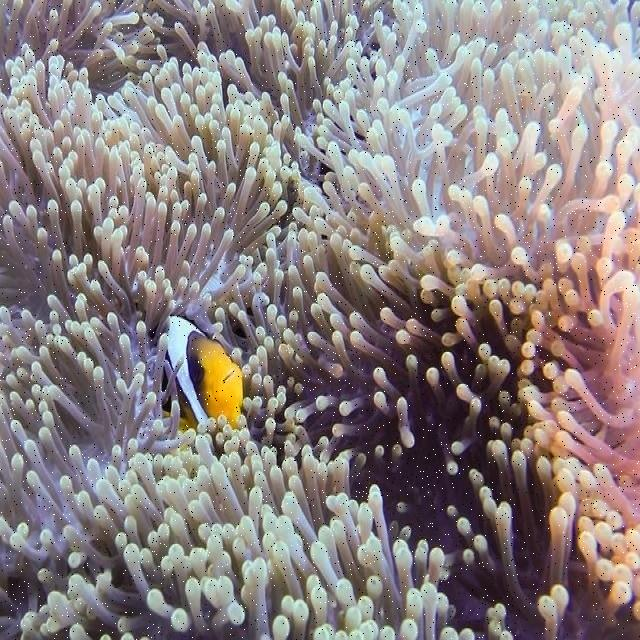fish: (166, 313, 244, 430)
reefs: (1, 0, 639, 638)
